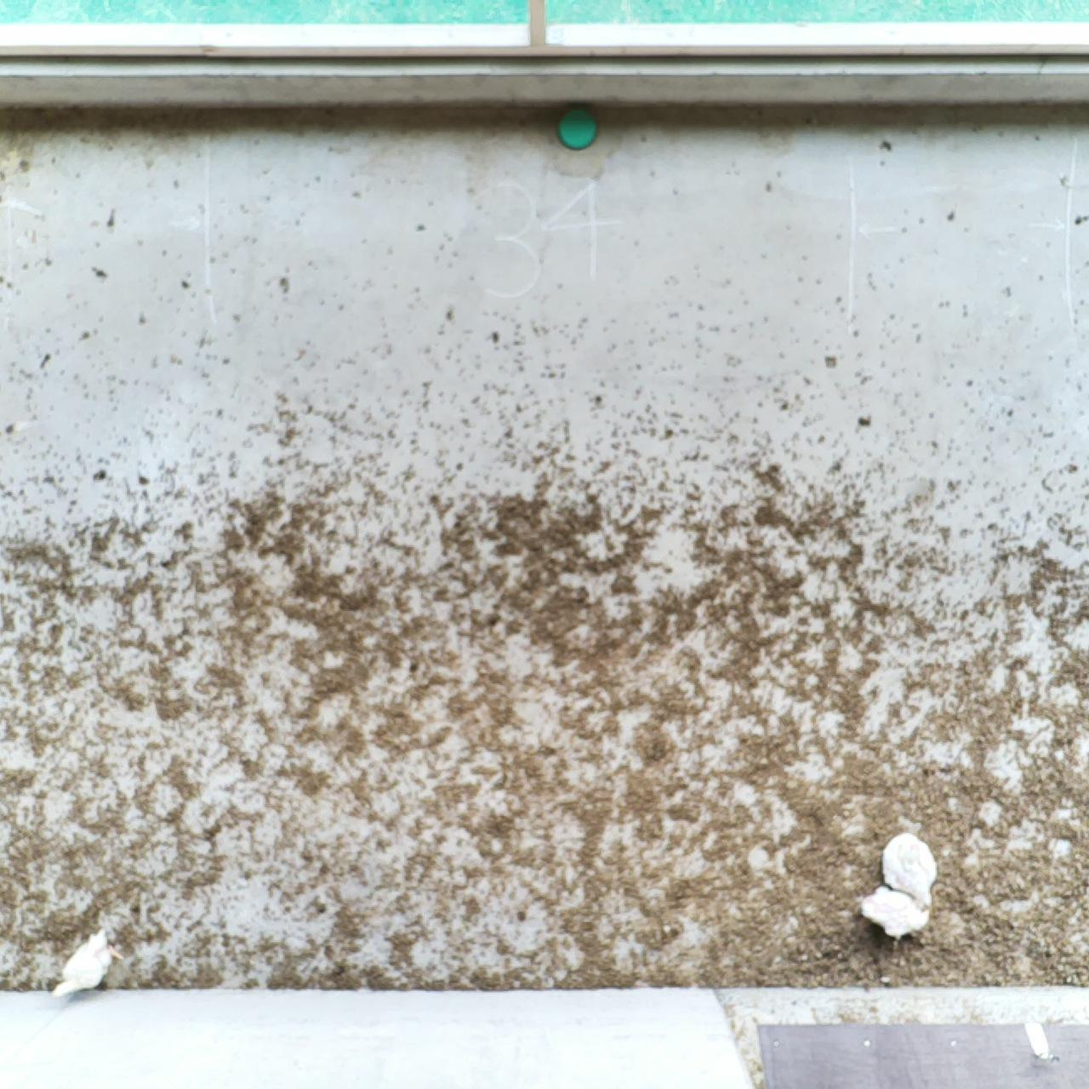chicken: (49, 925, 127, 1001), (876, 828, 942, 913), (857, 884, 936, 943)
